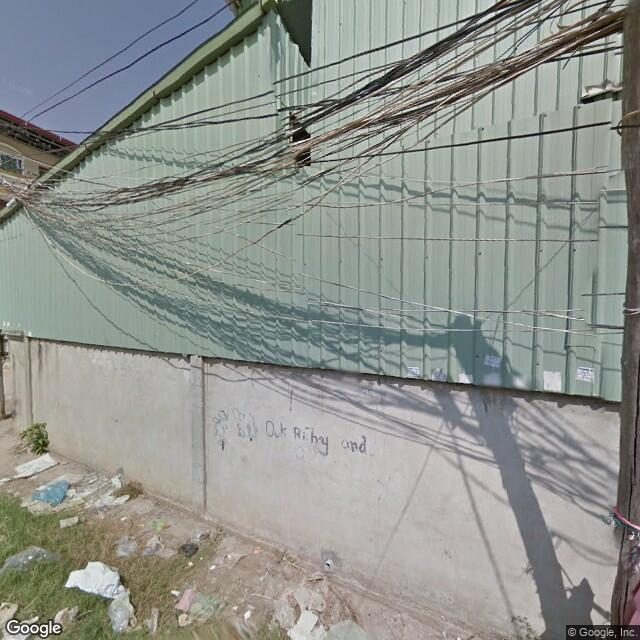litter: (63, 548, 153, 629), (9, 446, 59, 483), (26, 480, 74, 517), (99, 472, 135, 516), (180, 538, 199, 576), (166, 583, 186, 600), (241, 604, 257, 625), (24, 550, 40, 566), (203, 558, 221, 572)
